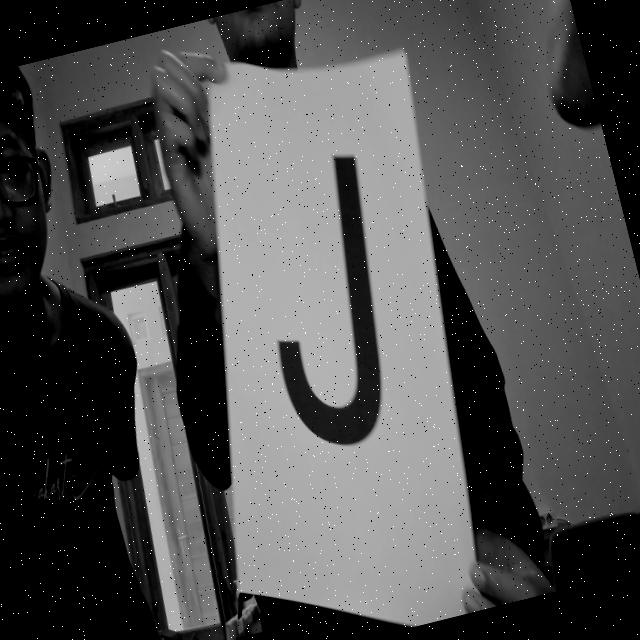j: (222, 131, 440, 502)
